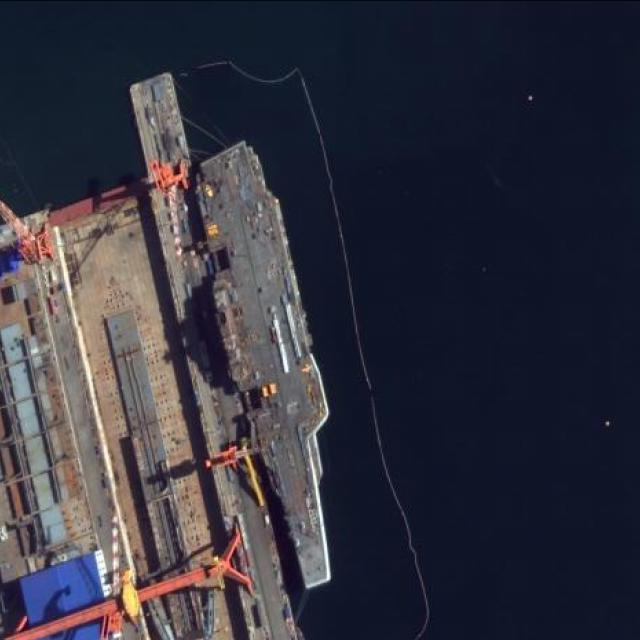Aircraft Carrier: (181, 134, 364, 597)
